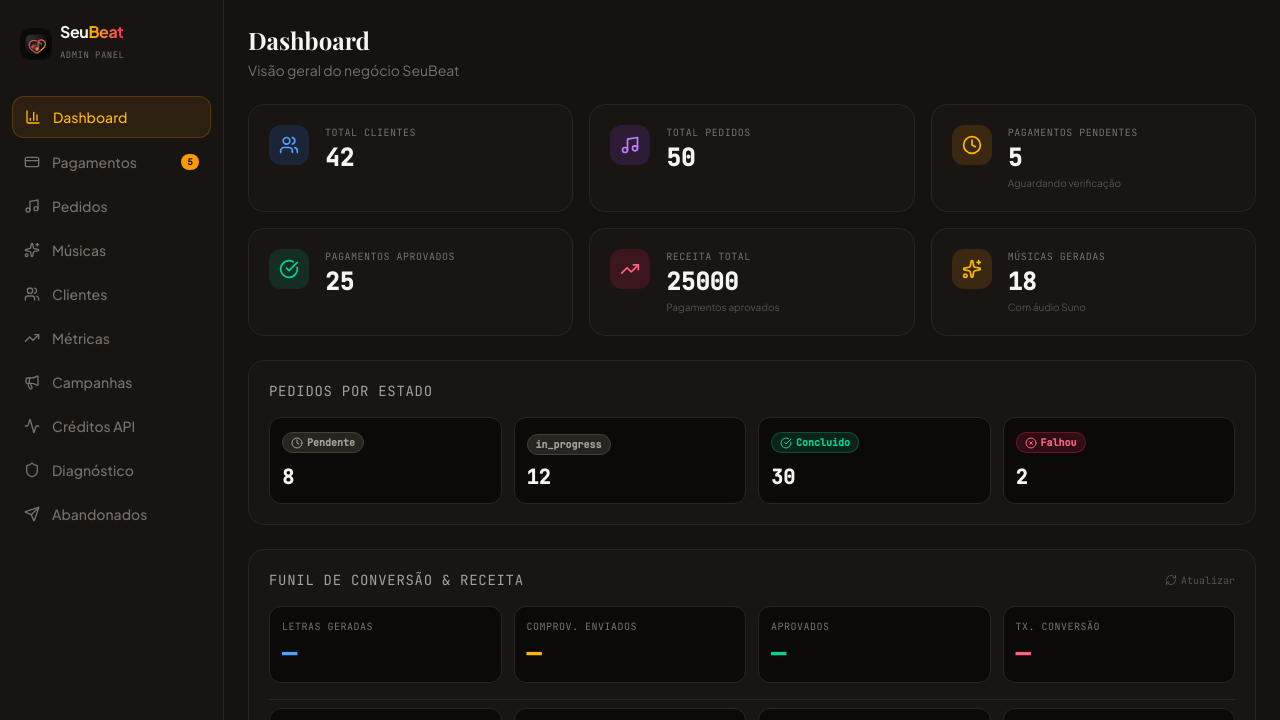
Test: AdminPanel › Navigation › shows loading spinner when switching tabs
The width and height of the screenshot is (1280, 720).
Check: the heading "Dashboard" is shown, box top-left (248, 24), bottom-right (370, 56)
Step 1. Click the button "Pagamentos 5" → (112, 162), box top-left (12, 142), bottom-right (211, 182)
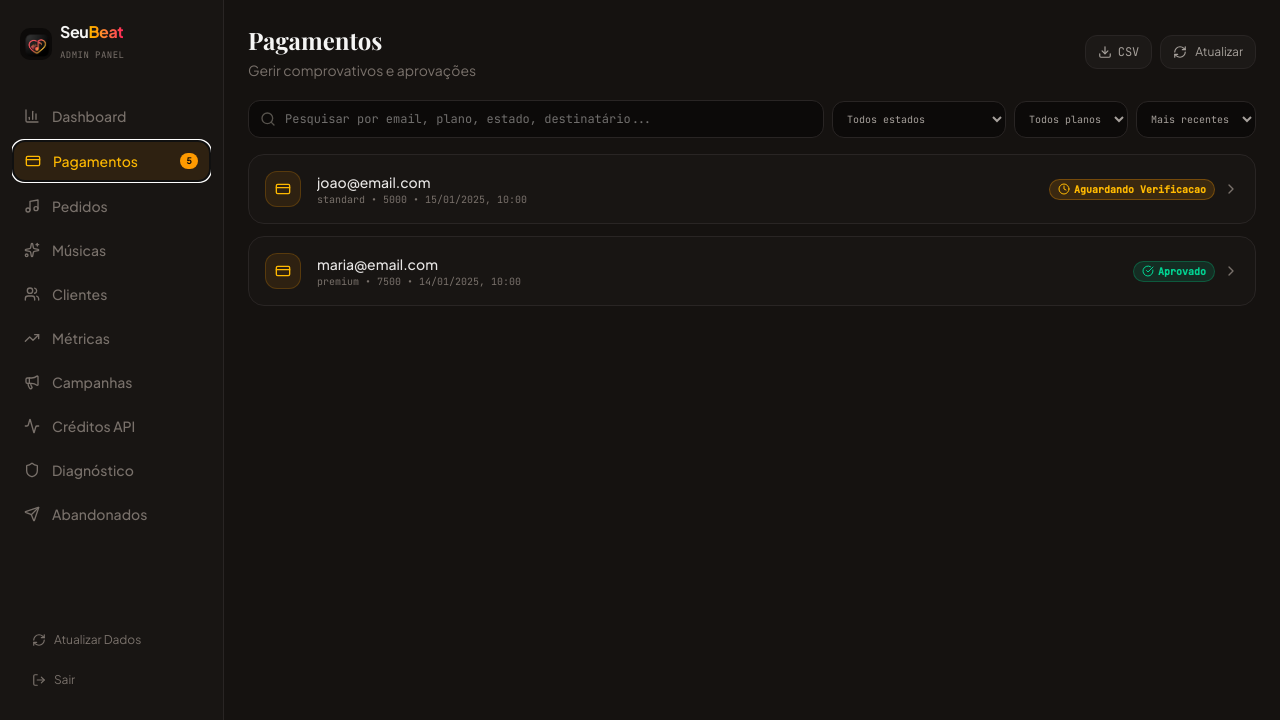
Check: the text "Gerir comprovativos e aprovações" is shown, box top-left (248, 60), bottom-right (476, 80)
